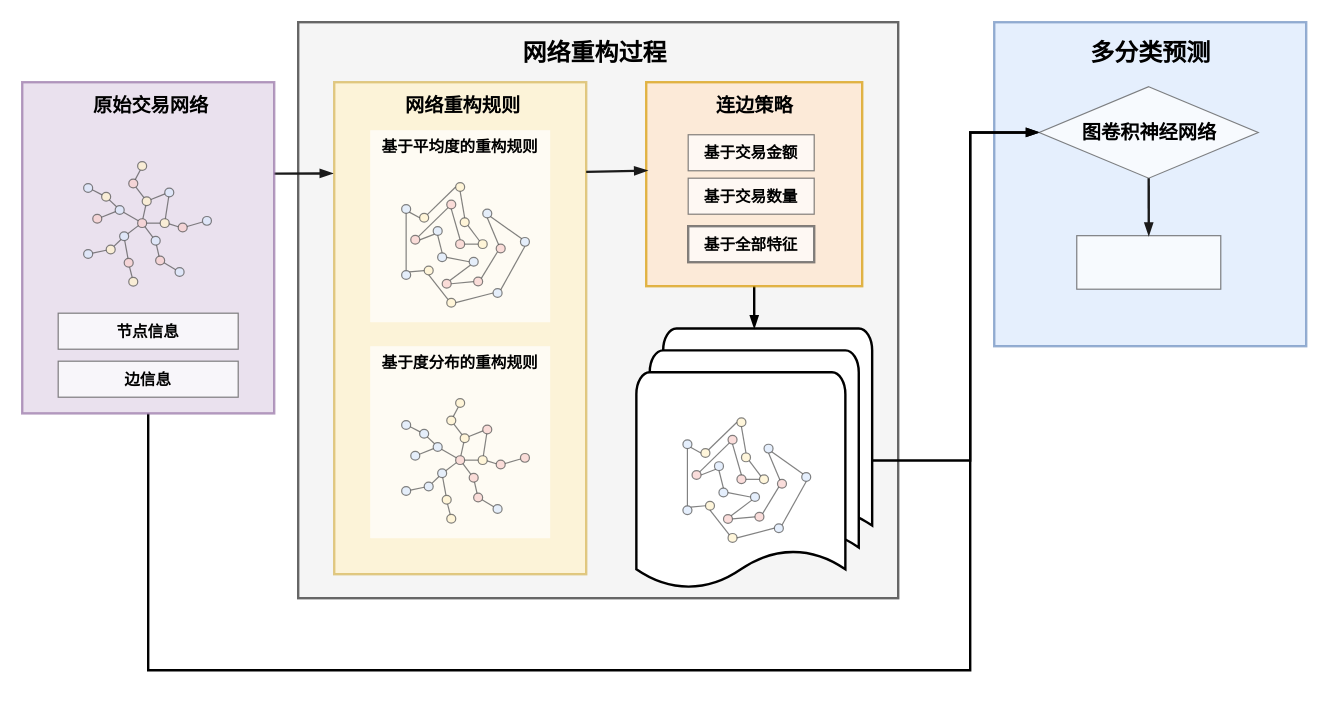
Image size: 1327x701. Some labels were removed from this diagram. Each missing label, with the box of its shape:
账户分类: (1076, 234, 1221, 289)
重构交易网络: (635, 327, 873, 593)
